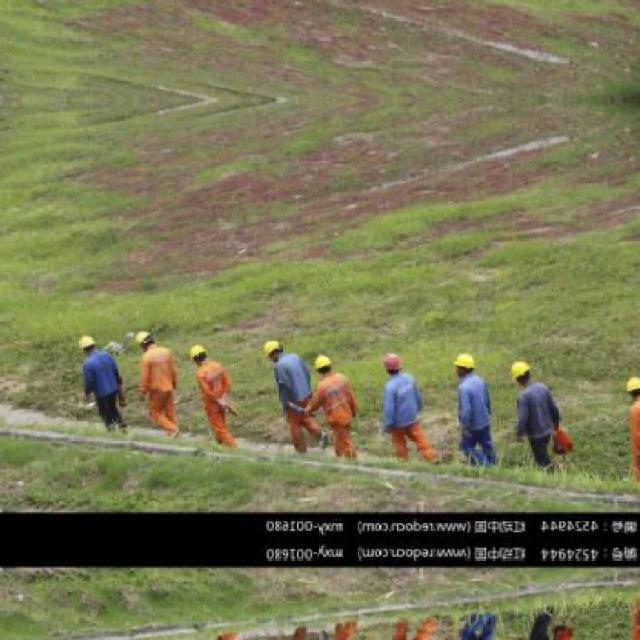con casco: (433, 347, 503, 398), (42, 330, 114, 374), (504, 339, 554, 397), (284, 335, 356, 368), (249, 318, 301, 357), (86, 322, 147, 355), (366, 343, 416, 375), (163, 343, 189, 374)
